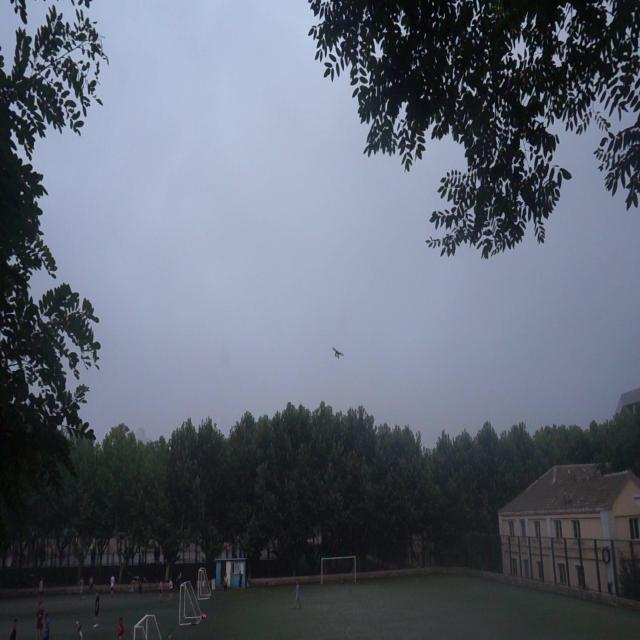drone: (329, 340, 346, 366)
